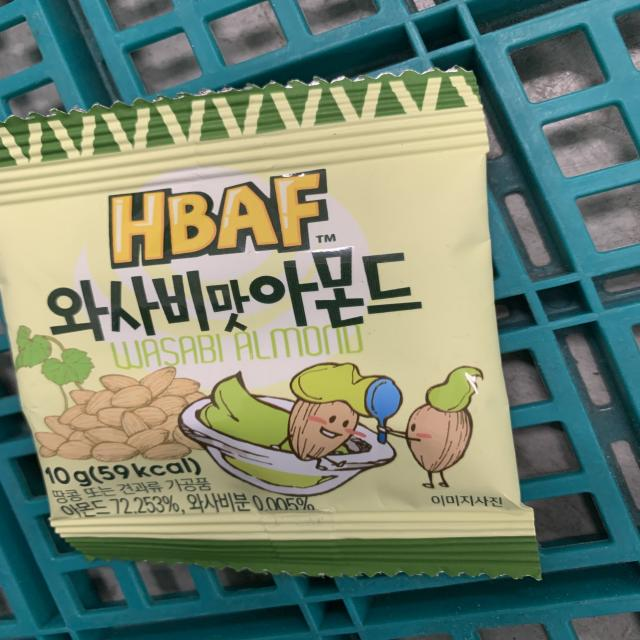object_name: (0, 97, 530, 564)
